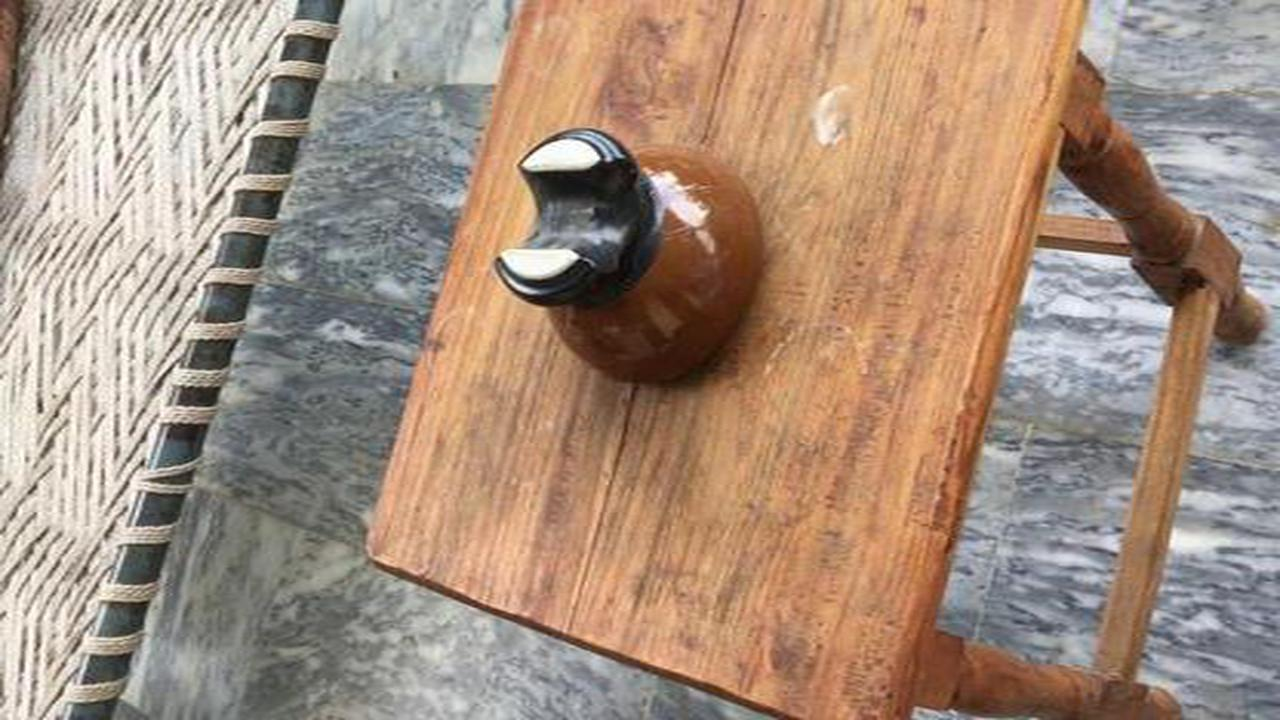insulator_pin: (484, 122, 785, 409)
